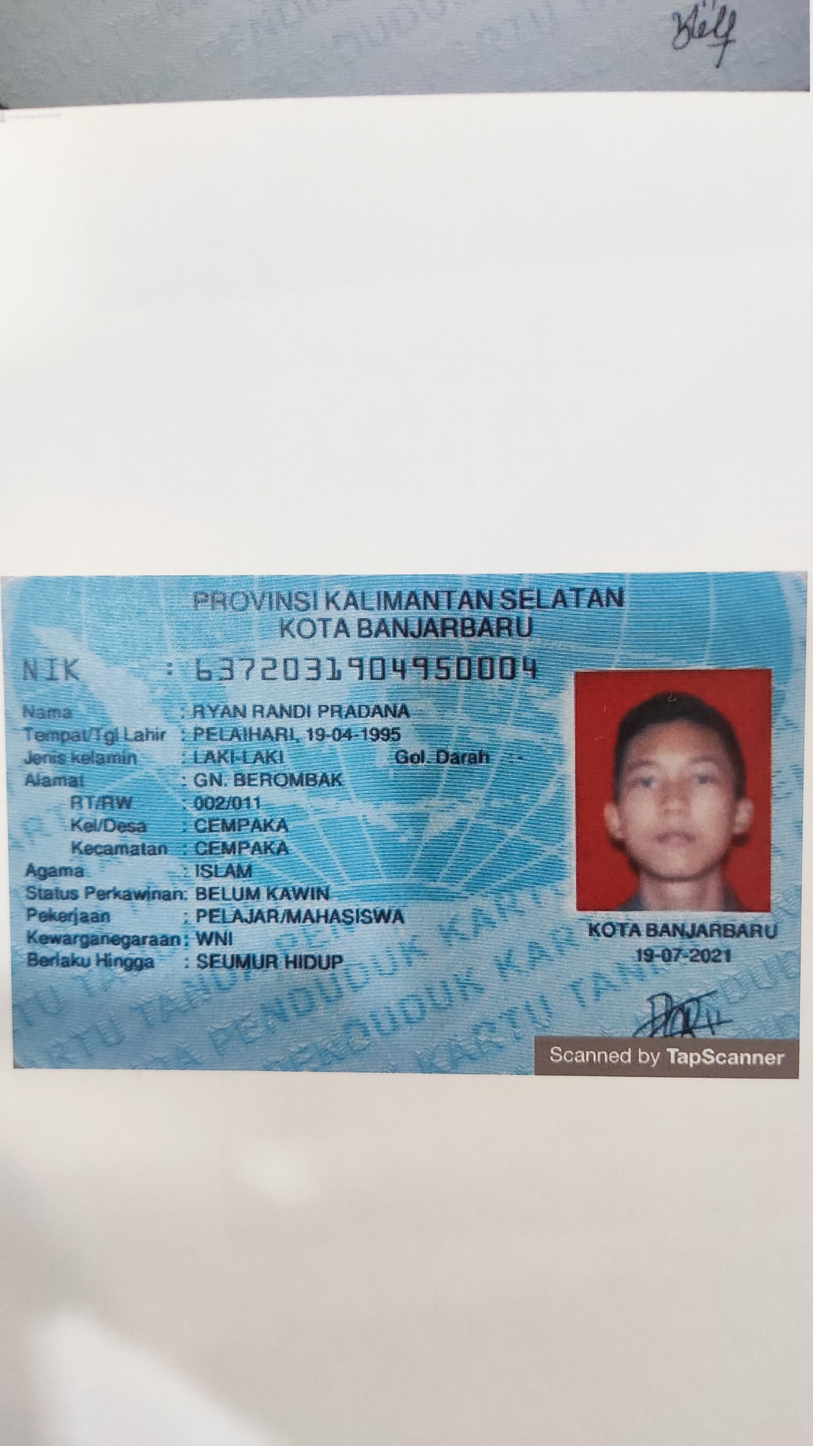ID-card: (6, 575, 801, 1075)
